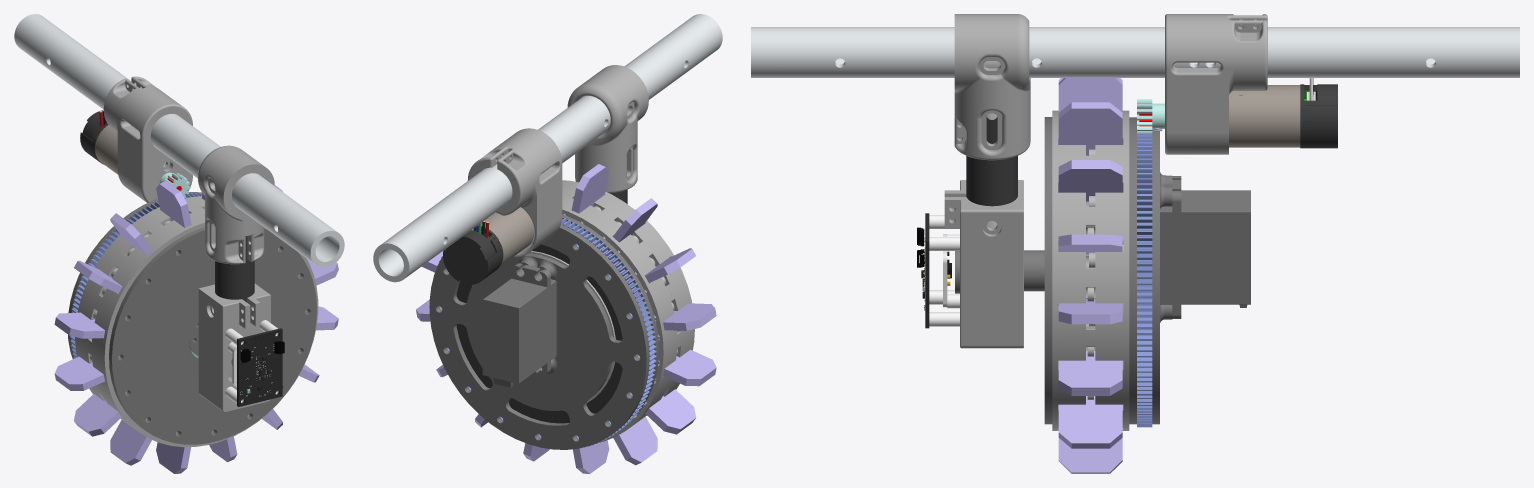
The picture shows the model from 3 angles, left to right: view 1: azimuth 30°, elevation 25°; view 2: azimuth 150°, elevation 25°; view 3: azimuth 270°, elevation 25°; orthographic projection. The views are drawn at different scales.
Parts seen in each view (by area): view 1: Variable_Grouser_Wheel_001-1/Wheel_Servo_Mount_302-5, AluminumTube_302-1, MotorBracket_303-1, HipBracket_304-2, CF_ConnectingJoint-5, Variable_Grouser_Wheel_001-1/Wheel_Exterior_307-3, BerryIMUv3.8.step-1/Pcb.step-1, Variable_Grouser_Wheel_001-1/Wheel_Exterior_307-1, 25d-metal-gearmotor-4.4-9.7-encoder.step-1, CF_Tube_302-3, Variable_Grouser_Wheel_001-1/Grouser_Assembly_004-11/Grouser, Variable_Grouser_Wheel_001-1/Grouser_Assembly_004-10/Grouser (+12 smaller); view 2: Variable_Grouser_Wheel_001-1/Wheel_Servo_Mount_302-7, AluminumTube_302-1, Variable_Grouser_Wheel_001-1/50kg Brushless Servo.step-1, MotorBracket_303-1, HipBracket_304-2, Variable_Grouser_Wheel_001-1/Wheel_Exterior_307-1, 25d-metal-gearmotor-4.4-9.7-encoder.step-1, Variable_Grouser_Wheel_001-1/Wheel_100MMM_Bearing_303-1, Variable_Grouser_Wheel_001-1/Wheel_Exterior_307-3, Variable_Grouser_Wheel_001-1/Wheel_Gear_301-3, Variable_Grouser_Wheel_001-1/Grouser_Assembly_004-11/Grouser, Variable_Grouser_Wheel_001-1/Grouser_Assembly_004-10/Grouser (+7 smaller); view 3: AluminumTube_302-1, MotorBracket_303-1, Variable_Grouser_Wheel_001-1/50kg Brushless Servo.step-1, HipBracket_304-2, CF_ConnectingJoint-5, Variable_Grouser_Wheel_001-1/Wheel_Exterior_307-1, Variable_Grouser_Wheel_001-1/Wheel_Exterior_307-3, 25d-metal-gearmotor-4.4-9.7-encoder.step-1, Variable_Grouser_Wheel_001-1/Wheel_Gear_301-3, Variable_Grouser_Wheel_001-1/Wheel_Servo_Mount_302-7, Variable_Grouser_Wheel_001-1/Grouser_Assembly_004-6/Grouser_, Variable_Grouser_Wheel_001-1/Wheel_Servo_Mount_302-5 (+11 smaller).
Boxes of the visible parts, left/top/right/bottom form: Variable_Grouser_Wheel_001-1/Wheel_Servo_Mount_302-5: left=109, top=227, right=316, bottom=444; AluminumTube_302-1: left=14, top=14, right=344, bottom=267; MotorBracket_303-1: left=103, top=76, right=192, bottom=202; HipBracket_304-2: left=198, top=145, right=274, bottom=264; CF_ConnectingJoint-5: left=198, top=283, right=270, bottom=412; Variable_Grouser_Wheel_001-1/Wheel_Exterior_307-3: left=90, top=208, right=318, bottom=447; BerryIMUv3.8.step-1/Pcb.step-1: left=237, top=328, right=282, bottom=406; Variable_Grouser_Wheel_001-1/Wheel_Exterior_307-1: left=75, top=196, right=204, bottom=419; 25d-metal-gearmotor-4.4-9.7-encoder.step-1: left=80, top=110, right=165, bottom=174; CF_Tube_302-3: left=215, top=236, right=254, bottom=302; Variable_Grouser_Wheel_001-1/Grouser_Assembly_004-11/Grouser: left=74, top=394, right=121, bottom=436; Variable_Grouser_Wheel_001-1/Grouser_Assembly_004-10/Grouser: left=110, top=420, right=151, bottom=465; Variable_Grouser_Wheel_001-1/Wheel_Servo_Mount_302-7: left=429, top=224, right=649, bottom=449; AluminumTube_302-1: left=373, top=14, right=722, bottom=282; Variable_Grouser_Wheel_001-1/50kg Brushless Servo.step-1: left=482, top=263, right=556, bottom=387; MotorBracket_303-1: left=467, top=128, right=562, bottom=257; HipBracket_304-2: left=567, top=65, right=648, bottom=193; Variable_Grouser_Wheel_001-1/Wheel_Exterior_307-1: left=562, top=193, right=679, bottom=442; 25d-metal-gearmotor-4.4-9.7-encoder.step-1: left=443, top=207, right=534, bottom=284; Variable_Grouser_Wheel_001-1/Wheel_100MMM_Bearing_303-1: left=456, top=244, right=622, bottom=423; Variable_Grouser_Wheel_001-1/Wheel_Exterior_307-3: left=562, top=180, right=694, bottom=417; Variable_Grouser_Wheel_001-1/Wheel_Gear_301-3: left=436, top=217, right=656, bottom=447; Variable_Grouser_Wheel_001-1/Grouser_Assembly_004-11/Grouser: left=645, top=389, right=696, bottom=434; Variable_Grouser_Wheel_001-1/Grouser_Assembly_004-10/Grouser: left=613, top=416, right=657, bottom=465; AluminumTube_302-1: left=751, top=27, right=1519, bottom=77; MotorBracket_303-1: left=1165, top=14, right=1267, bottom=154; Variable_Grouser_Wheel_001-1/50kg Brushless Servo.step-1: left=1160, top=176, right=1250, bottom=318; HipBracket_304-2: left=954, top=14, right=1030, bottom=160; CF_ConnectingJoint-5: left=944, top=180, right=1023, bottom=348; Variable_Grouser_Wheel_001-1/Wheel_Exterior_307-1: left=1090, top=110, right=1129, bottom=430; Variable_Grouser_Wheel_001-1/Wheel_Exterior_307-3: left=1052, top=110, right=1090, bottom=430; 25d-metal-gearmotor-4.4-9.7-encoder.step-1: left=1229, top=78, right=1337, bottom=148; Variable_Grouser_Wheel_001-1/Wheel_Gear_301-3: left=1137, top=133, right=1152, bottom=427; Variable_Grouser_Wheel_001-1/Wheel_Servo_Mount_302-7: left=1152, top=129, right=1172, bottom=424; Variable_Grouser_Wheel_001-1/Grouser_Assembly_004-6/Grouser_: left=1058, top=396, right=1122, bottom=448; Variable_Grouser_Wheel_001-1/Wheel_Servo_Mount_302-5: left=1044, top=117, right=1052, bottom=424.
Bounding box in the file's own units: 0.1576 × 0.1878 × 0.3.
